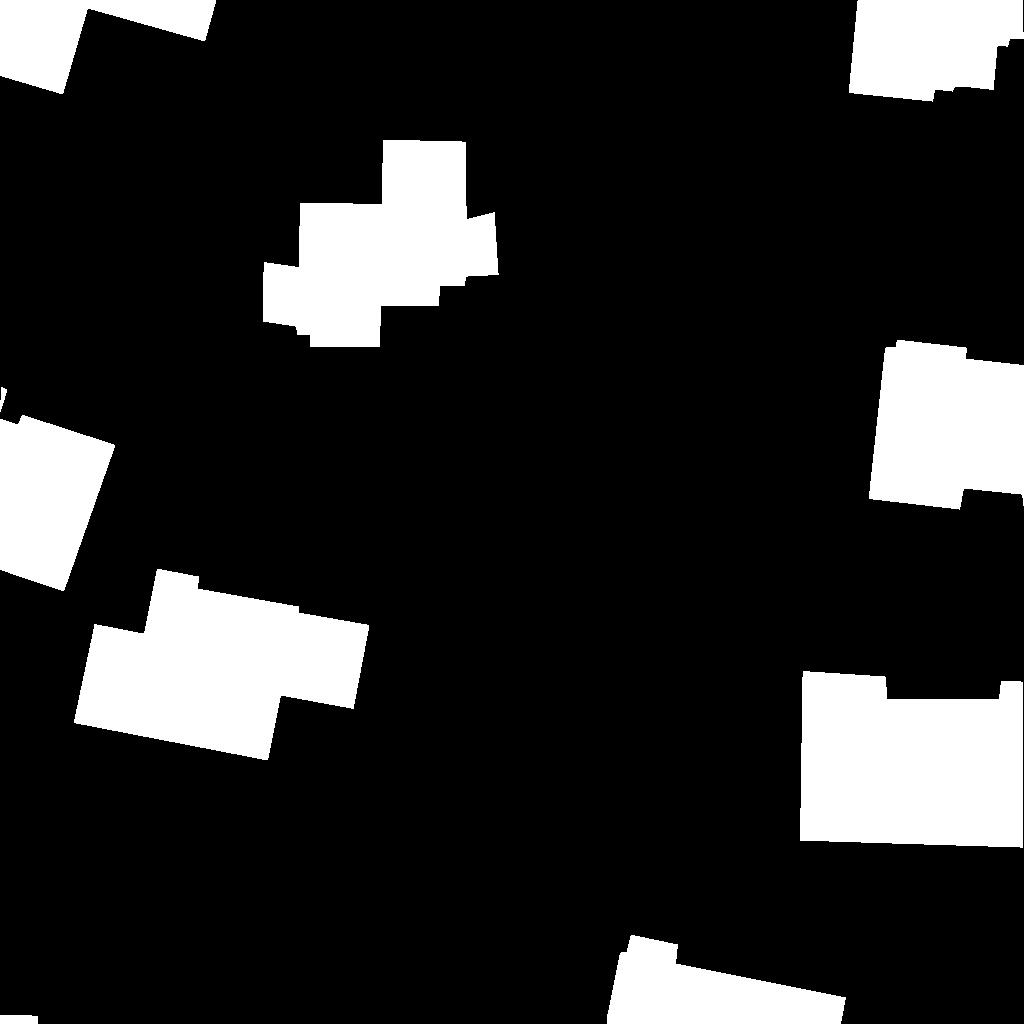building: (74, 569, 370, 761), (263, 140, 499, 347), (800, 671, 1024, 848), (869, 340, 1024, 510), (0, 387, 116, 592), (607, 935, 847, 1024), (0, 0, 217, 95), (849, 0, 1024, 102), (0, 1015, 39, 1024)
